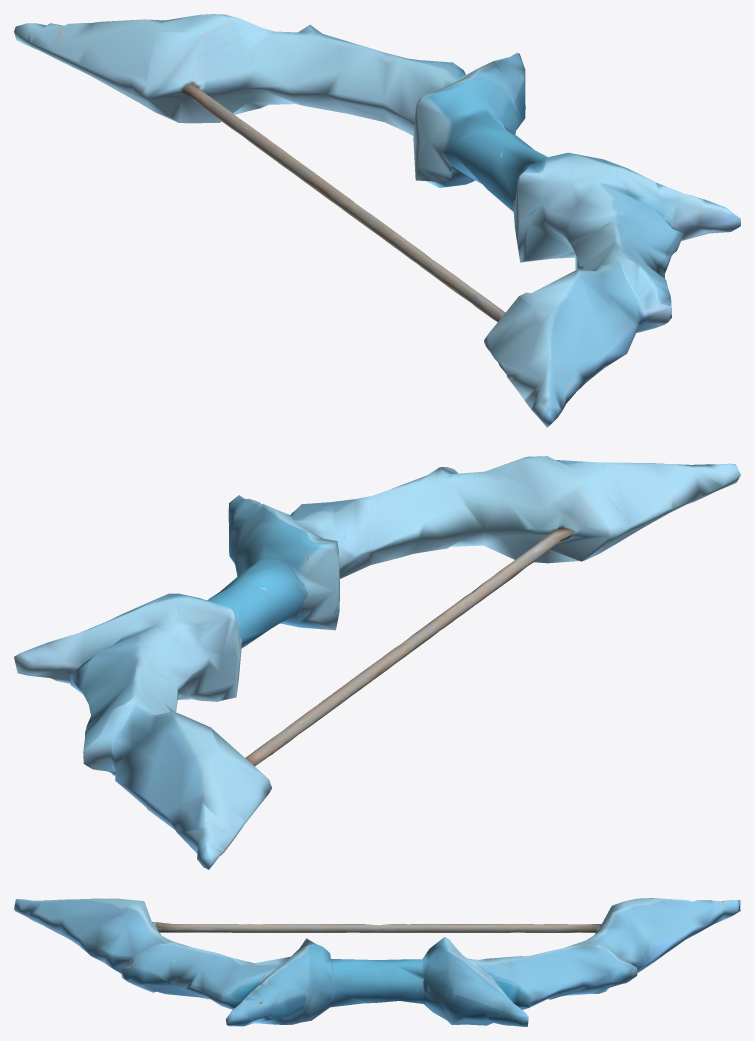
Rendered from 1110_bow.glb.
3 renders of one model, top to bottom at view 1: azimuth 30°, elevation 25°; view 2: azimuth 150°, elevation 25°; view 3: azimuth 270°, elevation 25°, orthographic. The views are drawn at different scales.
Parts seen in each view (by area): view 1: Model; view 2: Model; view 3: Model.
Boxes of the visible parts, left/top/right/bottom form: Model: left=14, top=14, right=740, bottom=427; Model: left=14, top=456, right=740, bottom=869; Model: left=14, top=898, right=740, bottom=1026.
Size of the model in its own units: 0.3841 by 0.1079 by 1.
Materials: 1 (1 with a texture image).
